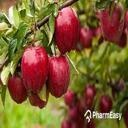apple: (21, 45, 49, 95)
